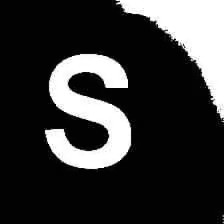LTR_S: (40, 51, 135, 173)
